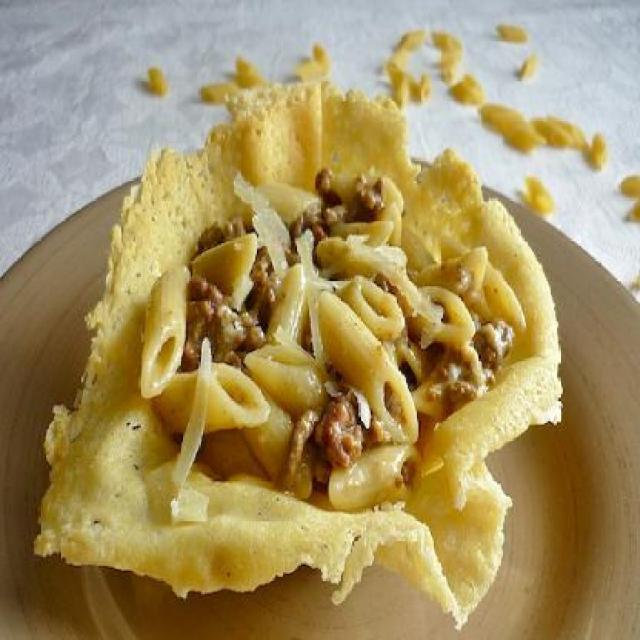Pasta al ragu: (130, 90, 566, 559)
